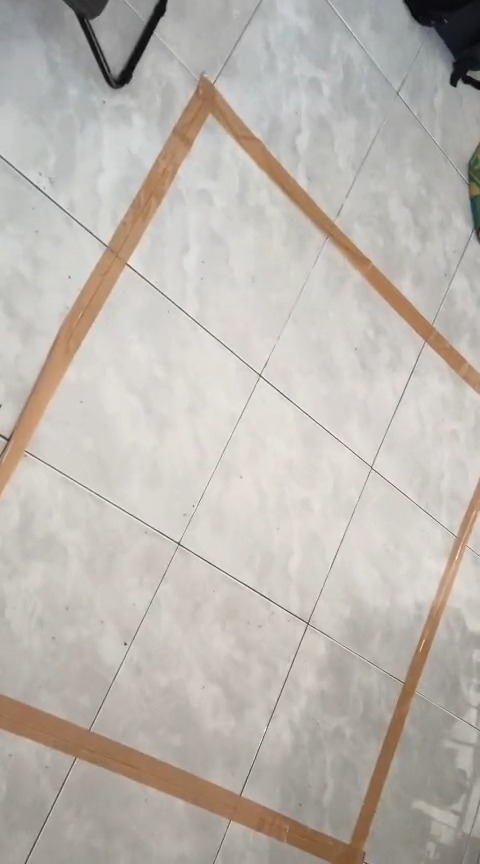floor marking: (0, 77, 479, 493), (0, 479, 479, 863)
